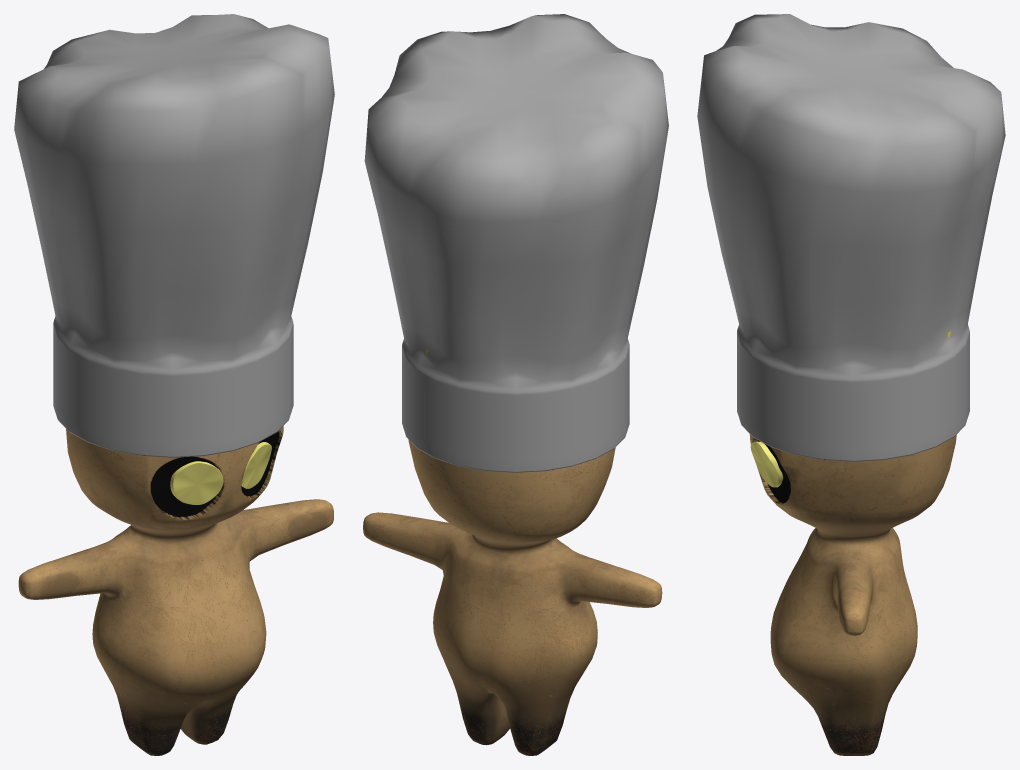
File: angel.fbx
The picture shows the model from 3 angles, left to right: view 1: azimuth 30°, elevation 25°; view 2: azimuth 150°, elevation 25°; view 3: azimuth 270°, elevation 25°; orthographic projection. The views are drawn at different scales.
Parts seen in each view (by area): view 1: angels_chef_hat_smoothed, luminite_body, eye1, eye2; view 2: angels_chef_hat_smoothed, luminite_body; view 3: angels_chef_hat_smoothed, luminite_body, eye2.
Part boxes in pixels (<box>): angels_chef_hat_smoothed: <box>14,14,334,457</box>; luminite_body: <box>18,426,333,755</box>; eye1: <box>170,461,223,504</box>; eye2: <box>241,442,271,488</box>; angels_chef_hat_smoothed: <box>364,14,668,472</box>; luminite_body: <box>363,439,662,755</box>; angels_chef_hat_smoothed: <box>697,14,1005,461</box>; luminite_body: <box>749,434,956,755</box>; eye2: <box>750,441,783,487</box>.
Size of the model in its own units: 120 by 264 by 106.
